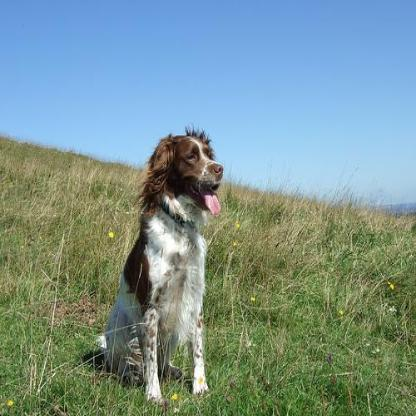English_springer: (94, 126, 223, 404)
